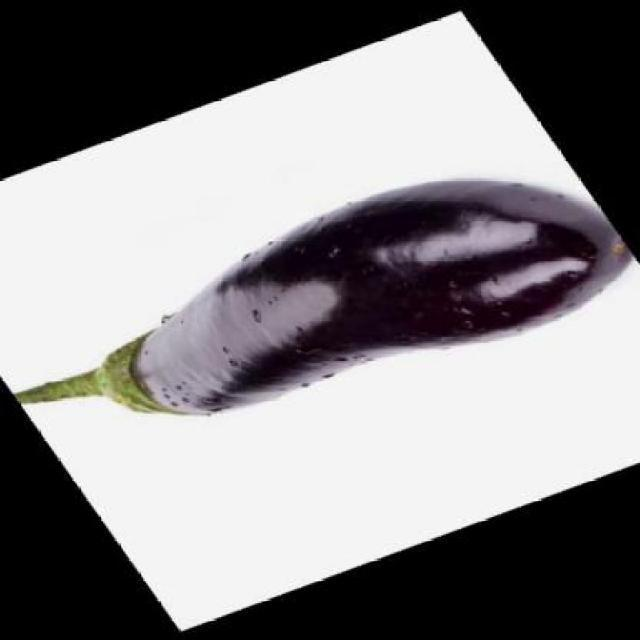eggplant: (11, 171, 635, 430)
